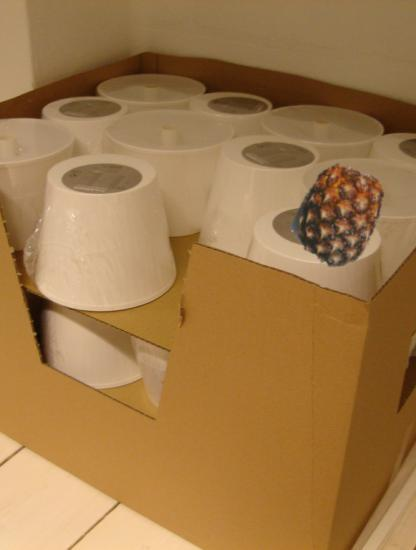Pineapple: (286, 163, 392, 269)
